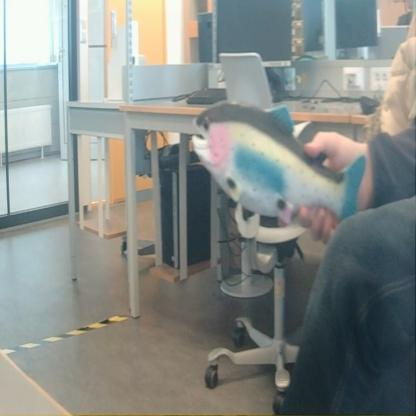rubberfish: (188, 93, 368, 244)
